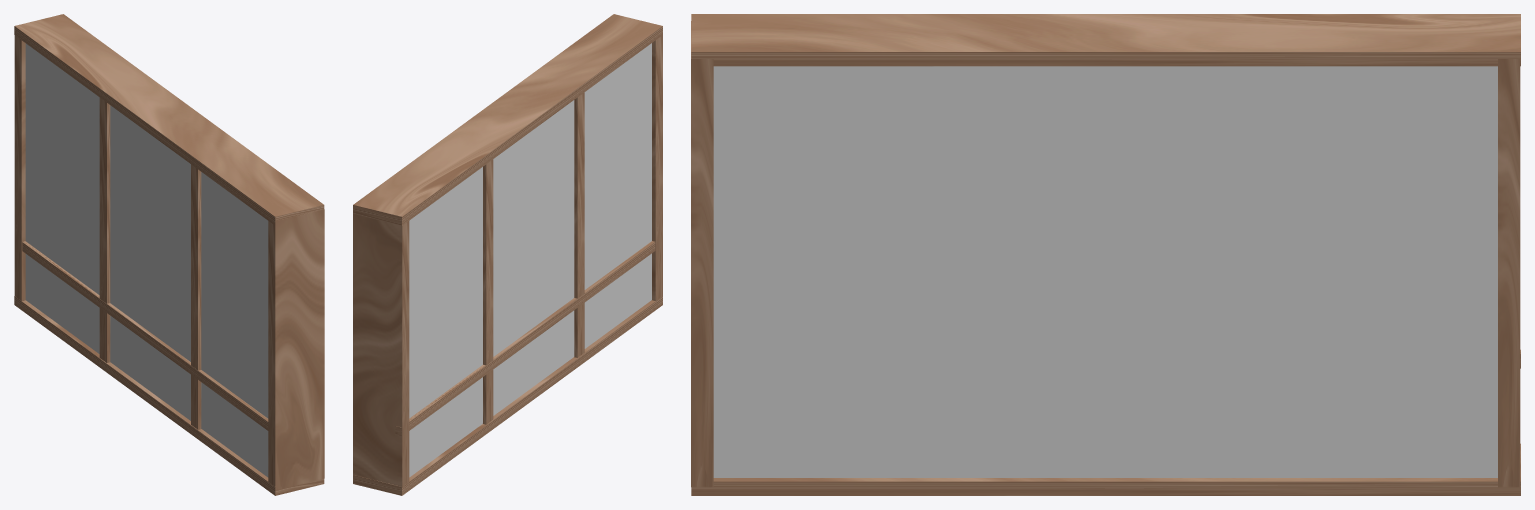
Rendered from window.fbx.
3 renders of one model, left to right at view 1: azimuth 30°, elevation 25°; view 2: azimuth 150°, elevation 25°; view 3: azimuth 270°, elevation 25°, orthographic. The views are drawn at different scales.
Visible parts, largest first — view 1: pCube5, pCube9, pCube6, pCube7, pCube12, pCube8, pCube11, pCube10; view 2: pCube5, pCube6, pCube8, pCube7, pCube12, pCube9, pCube10, pCube11; view 3: pCube5, pCube6, pCube7, pCube9, pCube8.
Boxes of the visible parts, x1,y1,x2,y2 form: pCube5: (25, 43, 268, 477); pCube9: (268, 209, 324, 490); pCube6: (14, 14, 324, 225); pCube7: (14, 296, 324, 495); pCube12: (22, 241, 268, 430); pCube8: (14, 35, 25, 301); pCube11: (99, 97, 110, 362); pCube10: (191, 164, 201, 429); pCube5: (409, 43, 651, 477); pCube6: (353, 14, 662, 225); pCube8: (353, 214, 409, 486); pCube7: (353, 296, 662, 495); pCube12: (395, 241, 655, 436); pCube9: (652, 35, 662, 300); pCube10: (574, 92, 584, 357); pCube11: (483, 159, 493, 424); pCube5: (713, 66, 1497, 477); pCube6: (691, 14, 1520, 66); pCube7: (691, 443, 1520, 495); pCube9: (691, 21, 713, 487); pCube8: (1498, 59, 1520, 487).
Bounding box in the file's own units: 13.77 × 74.71 × 127.
2 materials, 1 textured.
